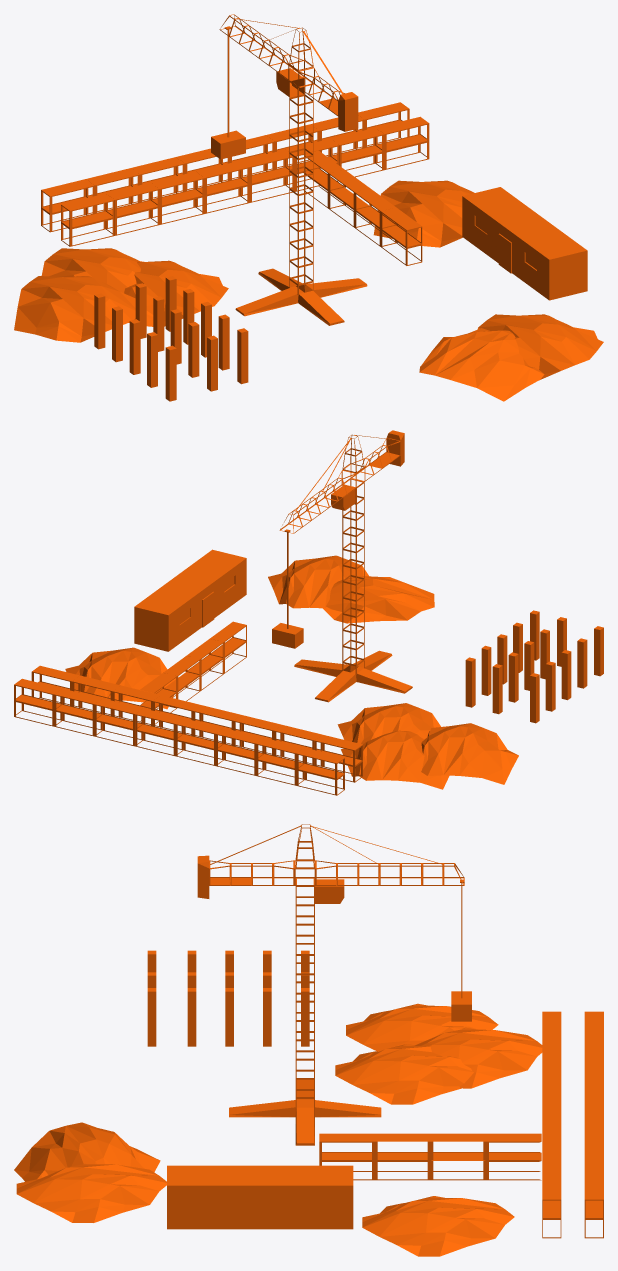
The model's file is ConstructionTile.fbx.
3 renders of one model, top to bottom at view 1: azimuth 30°, elevation 25°; view 2: azimuth 150°, elevation 25°; view 3: azimuth 270°, elevation 25°, orthographic. The views are drawn at different scales.
Parts seen in each view (by area): view 1: Cube; view 2: Cube; view 3: Cube.
Part boxes in pixels (<box>): Cube: <box>14,14,603,401</box>; Cube: <box>14,430,603,795</box>; Cube: <box>14,824,603,1256</box>.
Bounding box in the file's own units: 181 × 103 × 177.
